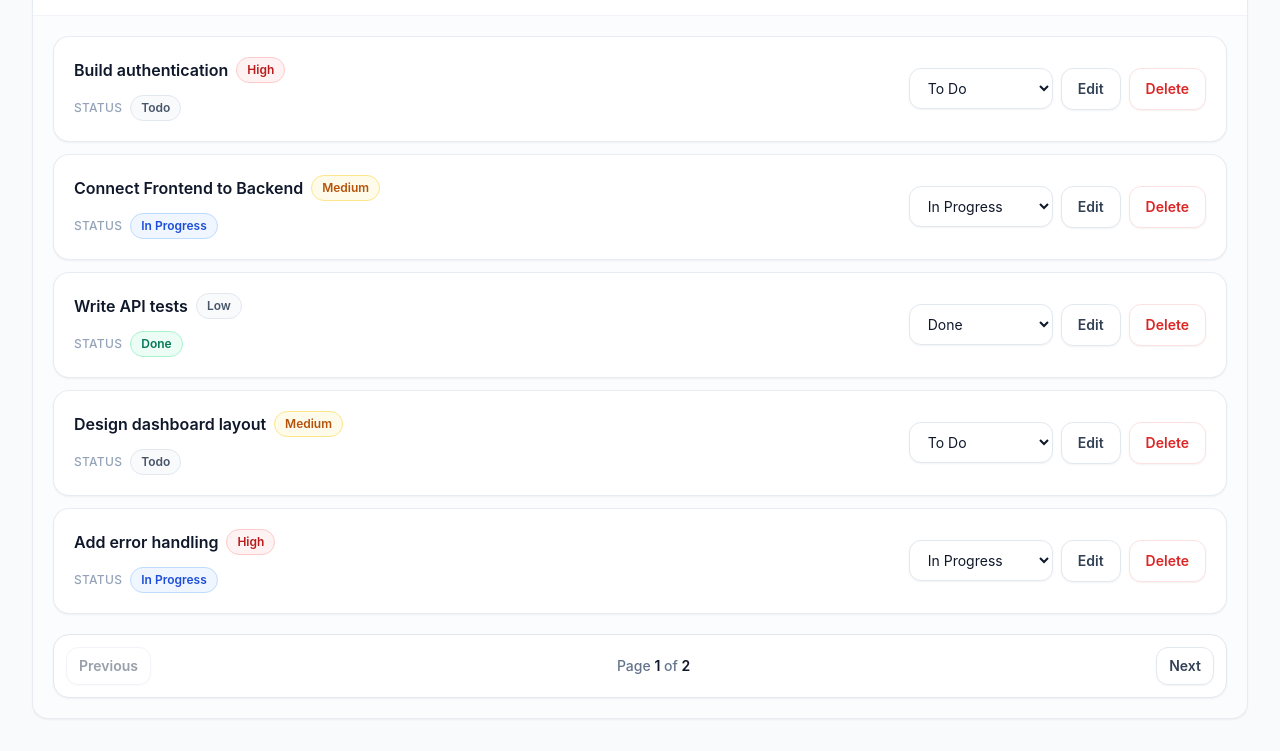
Test: Dashboard › resets pagination when a filter changes
(page scrolled)
Click the button "Next".
click(1185, 666)  # box [1156,647,1214,685]
(page scrolled)
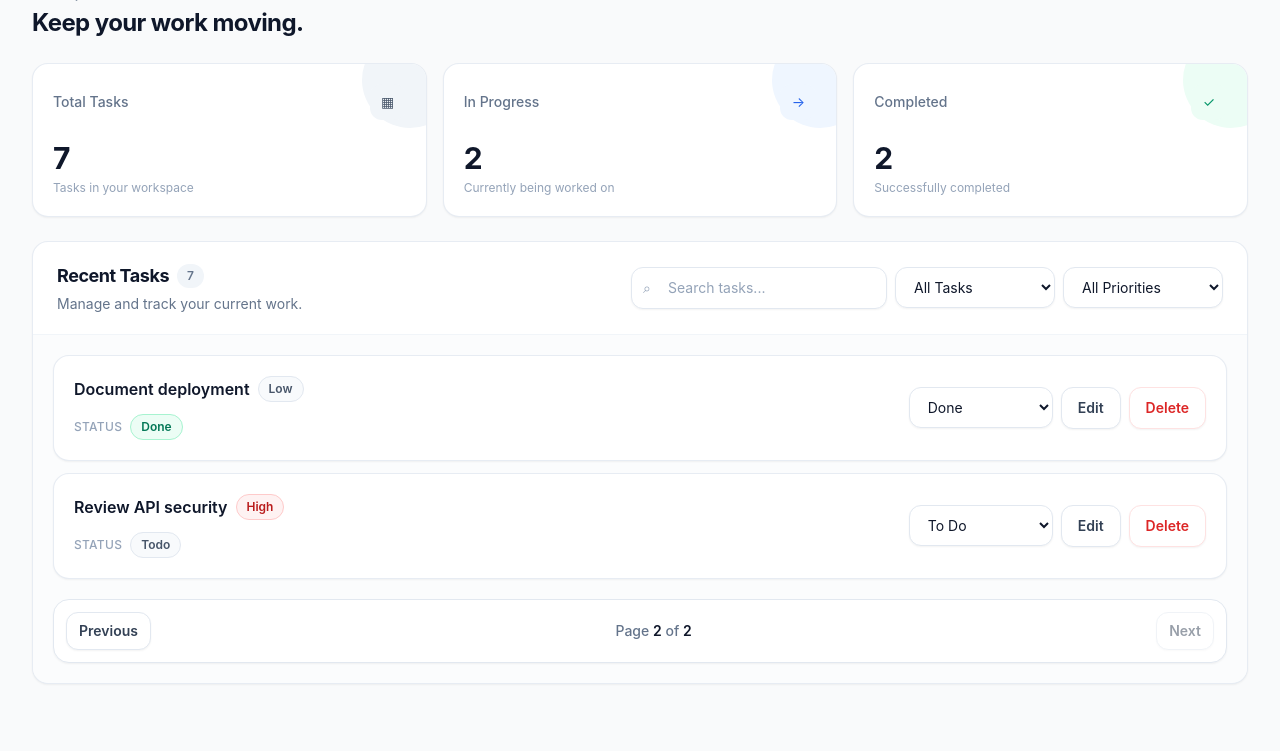
expect the navigation bar named "Task pagination" shows "Page 2 of 2": met, box [53,599,1227,663]
Select "Completed" in the 1st dropdown named "Filter tasks by status" at (975, 288), box [895,267,1055,308]
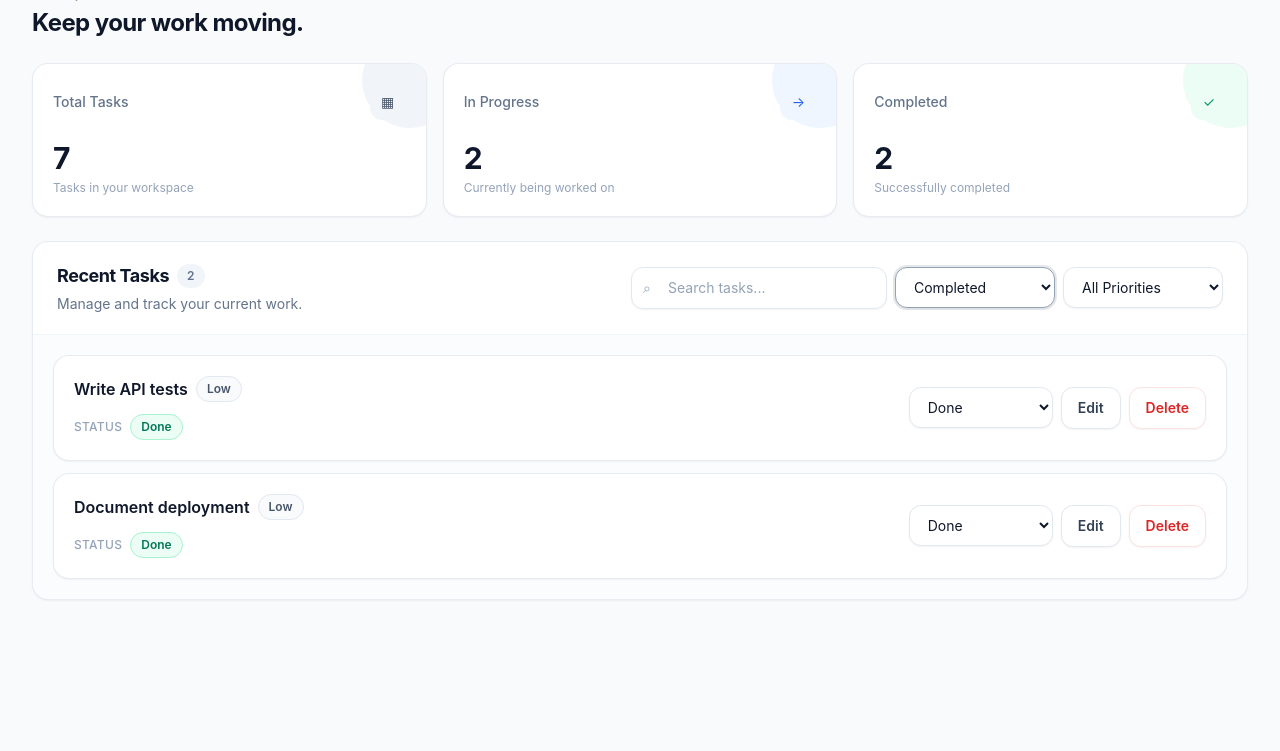
expect the text "Write API tests" is shown: met, box [74,377,188,401]
